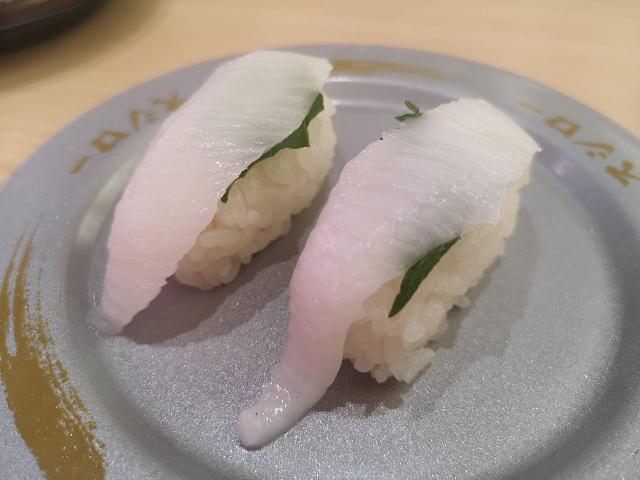janwhite: (7, 52, 640, 480)
